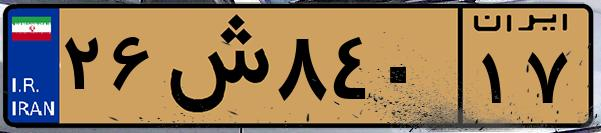0: (385, 28, 445, 110)
1: (475, 38, 525, 113)
2: (57, 26, 110, 100)
4: (330, 28, 385, 110)
6: (110, 28, 158, 98)
7: (525, 38, 570, 115)
8: (270, 28, 330, 110)
ش: (158, 12, 270, 120)
